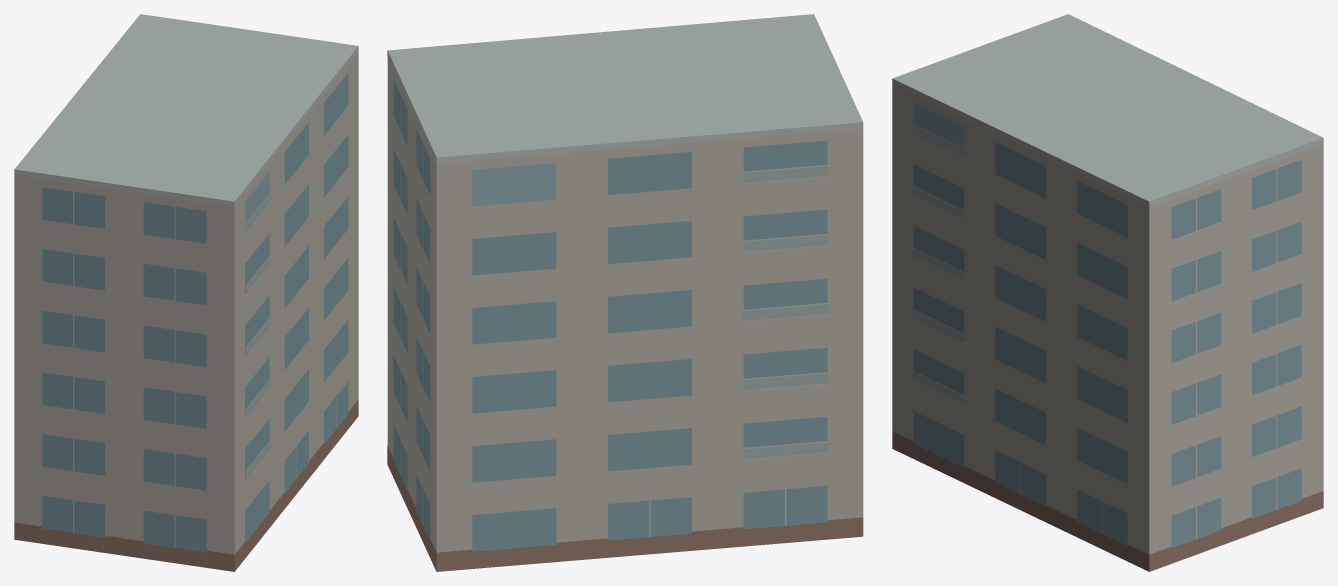
Rendered from survey-upis-32960838.glb.
3 views of the same model, side by side, from view 1: azimuth 30°, elevation 25°; view 2: azimuth 150°, elevation 25°; view 3: azimuth 270°, elevation 25° (orthographic). The views are drawn at different scales.
Visible parts, largest first — view 1: survey-upis-32960838.tmp; view 2: survey-upis-32960838.tmp; view 3: survey-upis-32960838.tmp.
Boxes of the visible parts, <box> form: survey-upis-32960838.tmp: <box>14,14,358,571</box>; survey-upis-32960838.tmp: <box>387,14,863,571</box>; survey-upis-32960838.tmp: <box>892,14,1323,571</box>.
Bounding box in the file's own units: 17.24 × 15.85 × 16.74.
